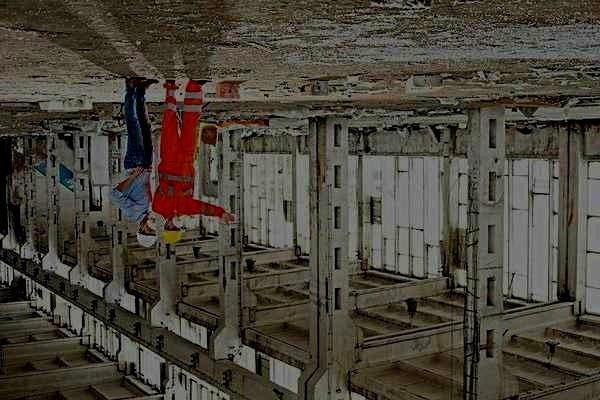helmet: (136, 217, 158, 247), (161, 219, 183, 245)
